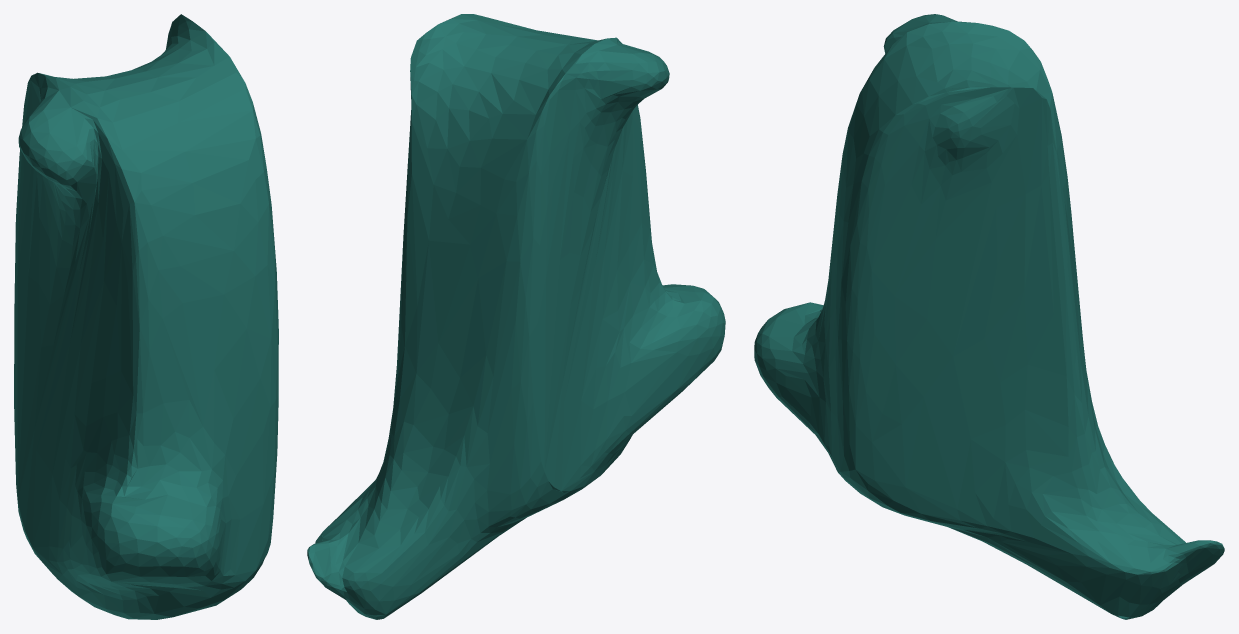
3 views of the same model, side by side, from view 1: azimuth 30°, elevation 25°; view 2: azimuth 150°, elevation 25°; view 3: azimuth 270°, elevation 25° (orthographic). The views are drawn at different scales.
Visible parts, largest first — view 1: 938_Cube.3790; view 2: 938_Cube.3790; view 3: 938_Cube.3790.
Part boxes in pixels (left/top/right/bottom): 938_Cube.3790: left=14, top=14, right=278, bottom=619; 938_Cube.3790: left=307, top=14, right=725, bottom=619; 938_Cube.3790: left=754, top=14, right=1224, bottom=619.
Size of the model in its own units: 6.6 by 14.15 by 11.52.
